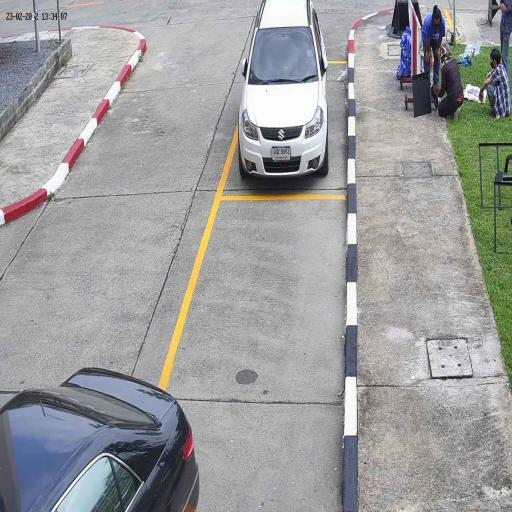car: (0, 365, 200, 512), (238, 0, 329, 181)
